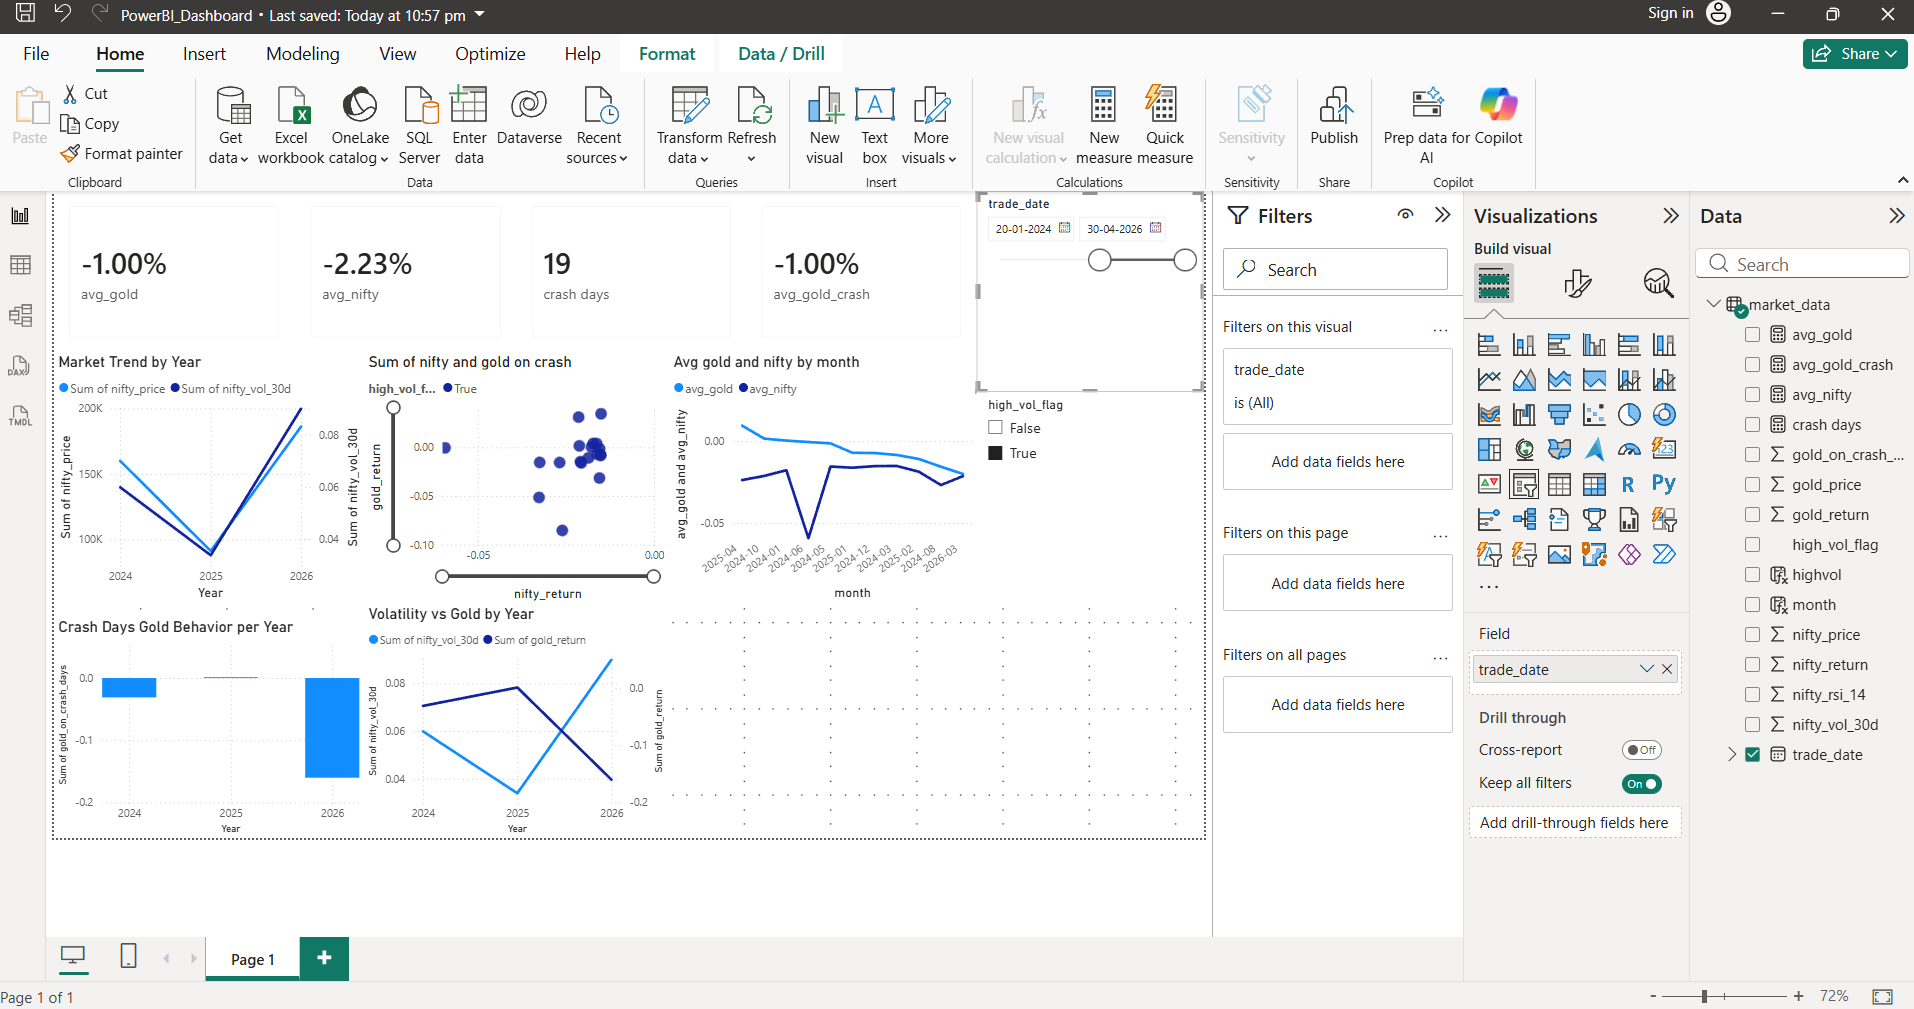

Layout of this report page (visuals, bound fields, positions):
{"tool":"powerbi","page":{"name":"Page 1","canvas":[1280,720],"ordinal":0},"visuals":[{"type":"cardVisual","fields":{"Data":["market_data.total crash days"]},"box":[514.8,0,256,180.9],"z":0},{"type":"cardVisual","fields":{"Data":["market_data.avg_gold"]},"box":[0,0,268.5,180.9],"z":1000},{"type":"cardVisual","fields":{"Data":["market_data.avg_nifty"]},"box":[268.5,0,246.3,180.9],"z":2000},{"type":"cardVisual","fields":{"Data":["market_data.avg_gold_crash"]},"box":[770.8,0,256,180.9],"z":3000},{"type":"lineChart","title":"Market Trend by Year","fields":{"Category":["market_data.trade_date.Variation.Date Hierarchy.Year","market_data.trade_date.Variation.Date Hierarchy.Quarter","market_data.trade_date.Variation.Date Hierarchy.Month","market_data.trade_date.Variation.Date Hierarchy.Day"],"Y":["Sum(market_data.nifty_price)"],"Y2":["Sum(market_data.nifty_vol_30d)"]},"box":[0,179.5,345,281],"z":4000},{"type":"scatterChart","title":"Sum of nifty and gold on crash","fields":{"X":["market_data.nifty_return"],"Y":["market_data.gold_return"],"Series":["market_data.high_vol_flag"],"Size":["CountNonNull(market_data.trade_date)"]},"box":[345,179.5,339.5,281],"z":5000},{"type":"columnChart","title":"Crash Days Gold Behavior per Year","fields":{"Category":["market_data.trade_date.Variation.Date Hierarchy.Year","market_data.trade_date.Variation.Date Hierarchy.Quarter","market_data.trade_date.Variation.Date Hierarchy.Month","market_data.trade_date.Variation.Date Hierarchy.Day"],"Y":["Sum(market_data.gold_on_crash_days)"]},"box":[0,474.4,345,246.3],"z":6000},{"type":"lineChart","title":"Volatility vs Gold by Year","fields":{"Category":["market_data.trade_date.Variation.Date Hierarchy.Year","market_data.trade_date.Variation.Date Hierarchy.Quarter","market_data.trade_date.Variation.Date Hierarchy.Month","market_data.trade_date.Variation.Date Hierarchy.Day"],"Y":["Sum(market_data.nifty_vol_30d)"],"Y2":["Sum(market_data.gold_return)"]},"box":[345,460.5,339.5,260.2],"z":7000},{"type":"lineChart","title":"Avg gold and nifty by month","fields":{"Category":["market_data.month"],"Y":["market_data.avg_gold","market_data.avg_nifty"]},"box":[684.5,179.5,342.3,281],"z":8000},{"type":"slicer","fields":{"Values":["market_data.trade_date"]},"box":[1026.8,0,253.2,224],"z":9000},{"type":"slicer","fields":{"Values":["market_data.high_vol_flag"]},"box":[1026.8,224,253.2,236.5],"z":10000}]}

Visuals, with their boxes on the page's 1280x720 design canvas (x1, y1, x2, y2). These are canvas units, not pixel positions in the 1914x1009 screenshot, which may show the page scaled, cropped or inside an application window:
cardVisual - market_data.total crash days: locate(515, 0, 771, 181)
cardVisual - market_data.avg_gold: locate(0, 0, 268, 181)
cardVisual - market_data.avg_nifty: locate(268, 0, 515, 181)
cardVisual - market_data.avg_gold_crash: locate(771, 0, 1027, 181)
"Market Trend by Year" lineChart: locate(0, 180, 345, 460)
"Sum of nifty and gold on crash" scatterChart: locate(345, 180, 684, 460)
"Crash Days Gold Behavior per Year" columnChart: locate(0, 474, 345, 721)
"Volatility vs Gold by Year" lineChart: locate(345, 460, 684, 721)
"Avg gold and nifty by month" lineChart: locate(684, 180, 1027, 460)
slicer - market_data.trade_date: locate(1027, 0, 1280, 224)
slicer - market_data.high_vol_flag: locate(1027, 224, 1280, 460)
